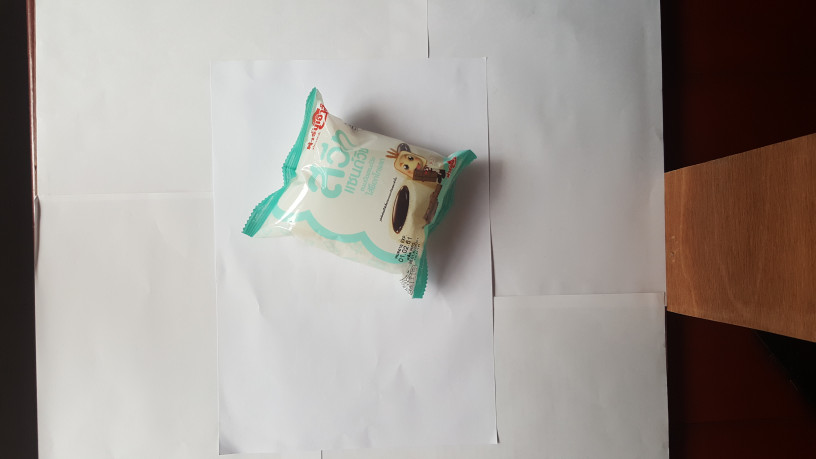farmhouse-sweetsandwich-chocolate: (237, 88, 481, 302)
